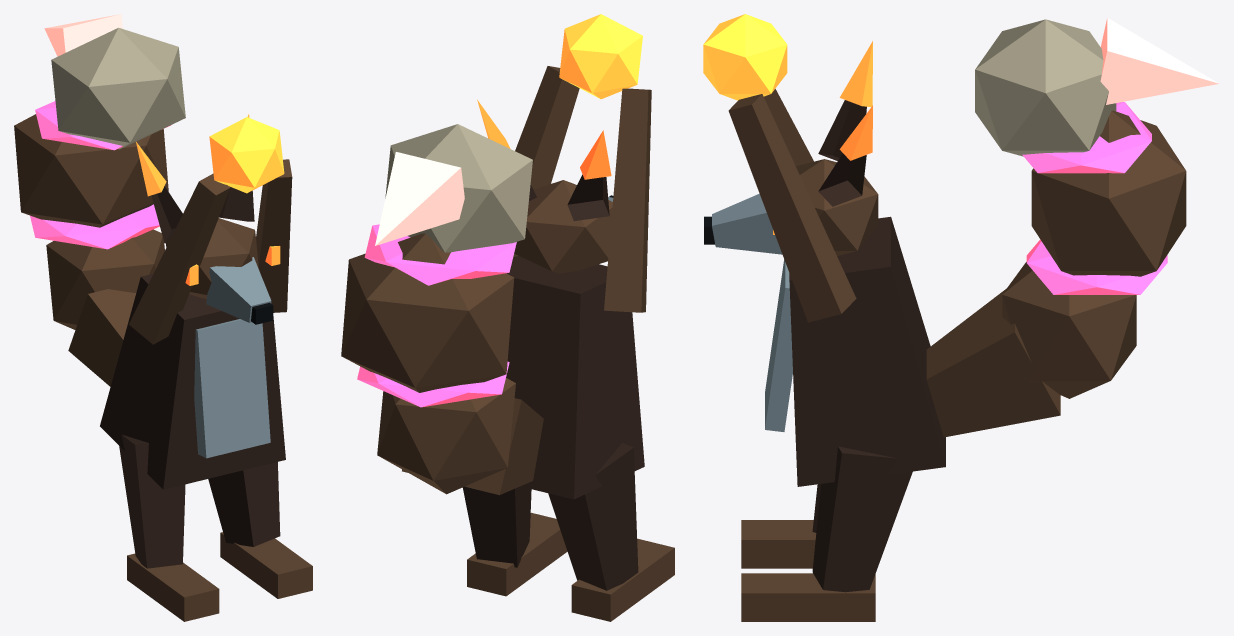
File: repairer.glb
3 views of the same model, side by side, from view 1: azimuth 30°, elevation 25°; view 2: azimuth 150°, elevation 25°; view 3: azimuth 270°, elevation 25° (orthographic). The views are drawn at different scales.
Visible parts, largest first — view 1: FRepairerHull, FRepairerGlow; view 2: FRepairerHull, FRepairerGlow; view 3: FRepairerHull, FRepairerGlow.
Boxes of the visible parts, x1,y1,x2,y2 form: FRepairerHull: (14, 27, 312, 621); FRepairerGlow: (30, 14, 284, 285); FRepairerHull: (341, 66, 674, 621); FRepairerGlow: (357, 14, 642, 407); FRepairerHull: (704, 19, 1186, 621); FRepairerGlow: (703, 14, 1219, 294).
Size of the model in its own units: 0.5272 by 1.6 by 1.31.
